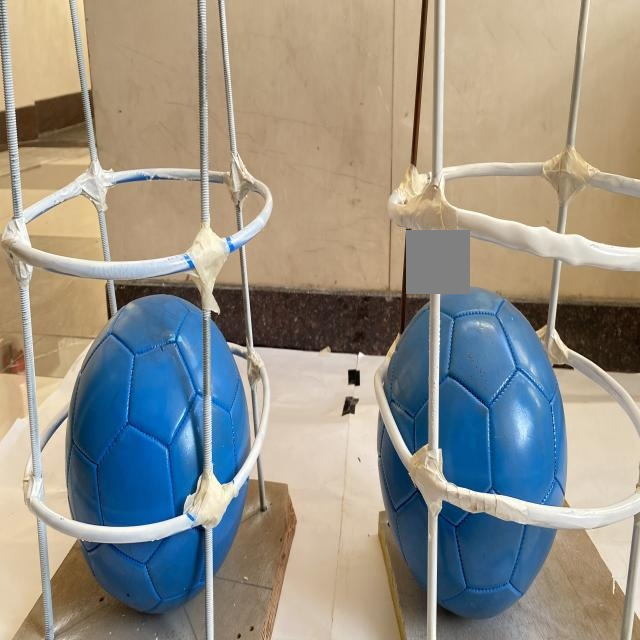blue_ball: (377, 284, 564, 618), (67, 293, 252, 617)
silo: (0, 1, 269, 640), (383, 0, 640, 640)
